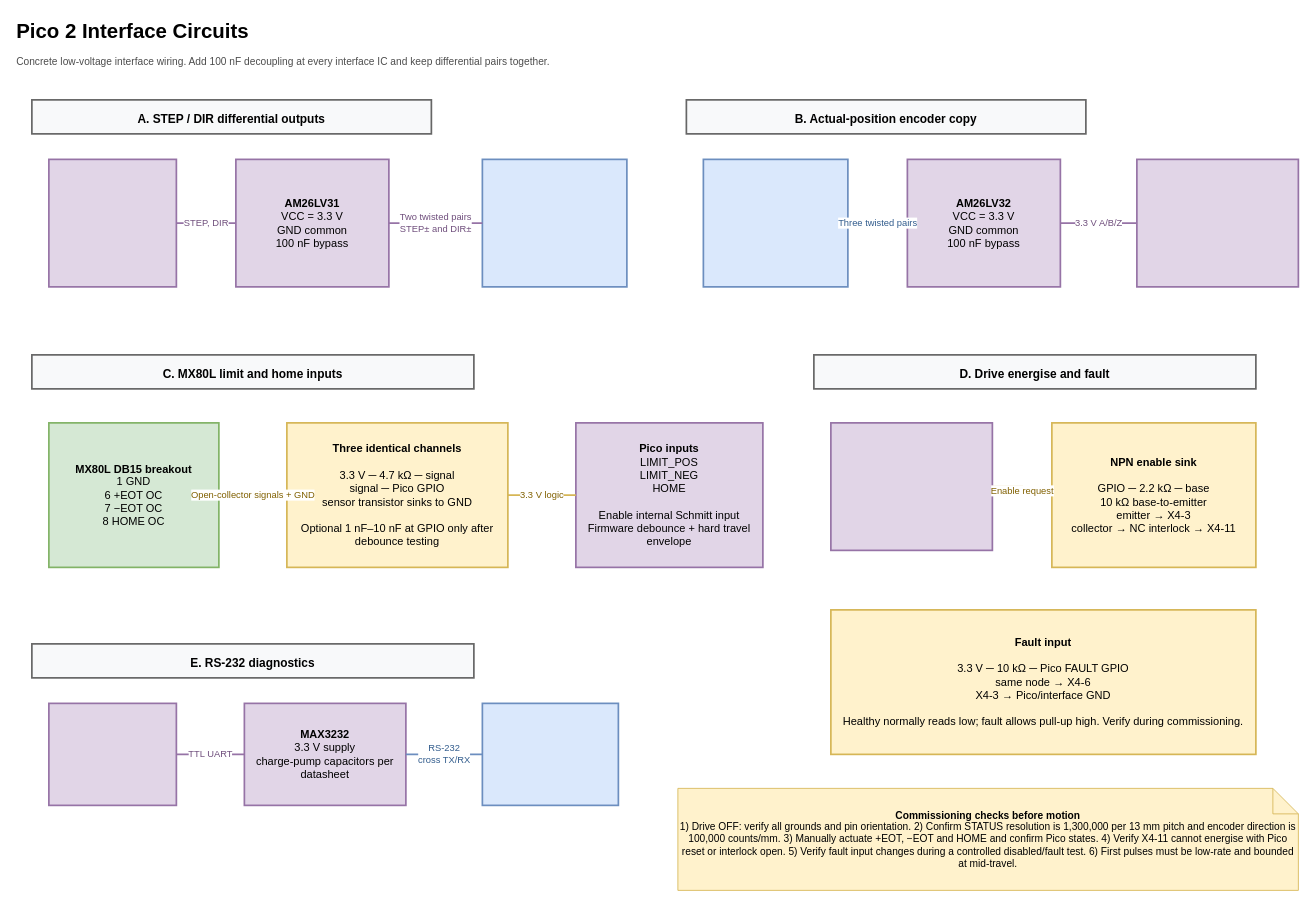
Some shapes in this 1313 by 905 pixel diagram are drawn without their labels. Each missing label, with the centre of its shape:
Pico ENABLE GPIO GPIO high requests enable GPIO reset/low must disable: point (911, 486)
Pico GPIO / PIO STEP DIR 3.3 V GND: point (112, 222)
Pico PIO Encoder A Encoder B Z/index GPIO 64-bit software extension: point (1217, 222)
Pico UART TX RX GND: point (112, 754)
ViX X3 4 Rx 5 Tx 3 GND 2 NC: point (550, 754)
ViX X4 12 STEP+ 7 STEP− 13 DIR+ 8 DIR−: point (554, 222)
ViX X4, EO=2 14/9 A± 15/10 B± 5/4 Z±: point (775, 222)
